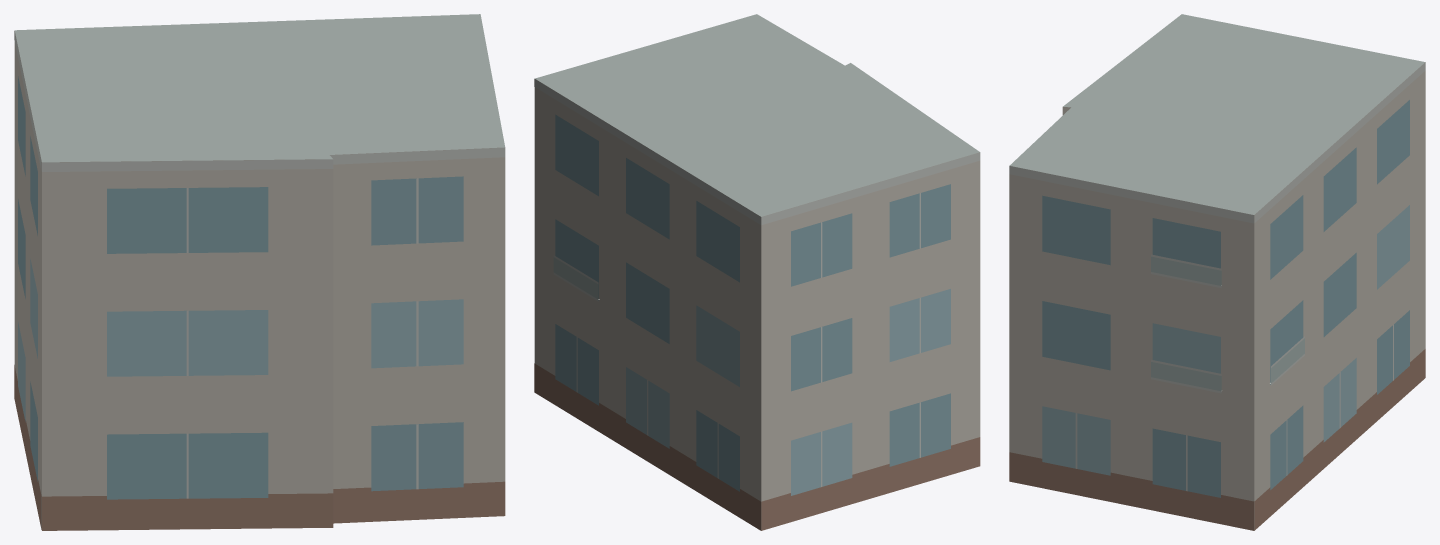
File: survey-upis-32585812.glb
The picture shows the model from 3 angles, left to right: view 1: azimuth 30°, elevation 25°; view 2: azimuth 150°, elevation 25°; view 3: azimuth 270°, elevation 25°; orthographic projection. The views are drawn at different scales.
Parts seen in each view (by area): view 1: survey-upis-32585812.tmp; view 2: survey-upis-32585812.tmp; view 3: survey-upis-32585812.tmp.
Part boxes in pixels (x1,y1,x2,y2): survey-upis-32585812.tmp: [14, 14, 505, 530]; survey-upis-32585812.tmp: [534, 14, 980, 530]; survey-upis-32585812.tmp: [1009, 14, 1425, 530].
Size of the model in its own units: 12.51 by 9.15 by 10.94.
